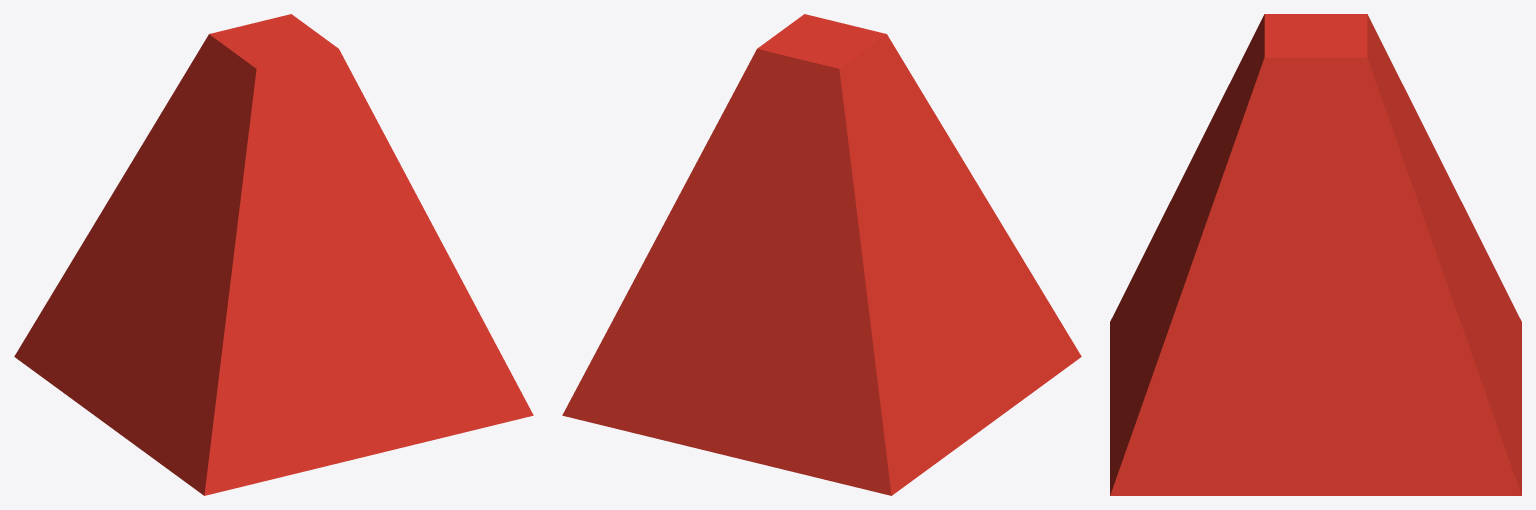
The model's file is tester.glb.
The picture shows the model from 3 angles, left to right: view 1: azimuth 30°, elevation 25°; view 2: azimuth 150°, elevation 25°; view 3: azimuth 270°, elevation 25°; orthographic projection. The views are drawn at different scales.
Visible parts, largest first — view 1: Cube; view 2: Cube; view 3: Cube.
Boxes of the visible parts, x1,y1,x2,y2 form: Cube: [14, 14, 533, 495]; Cube: [562, 14, 1081, 495]; Cube: [1110, 14, 1521, 495].
Size of the model in its own units: 2 by 2 by 2.
